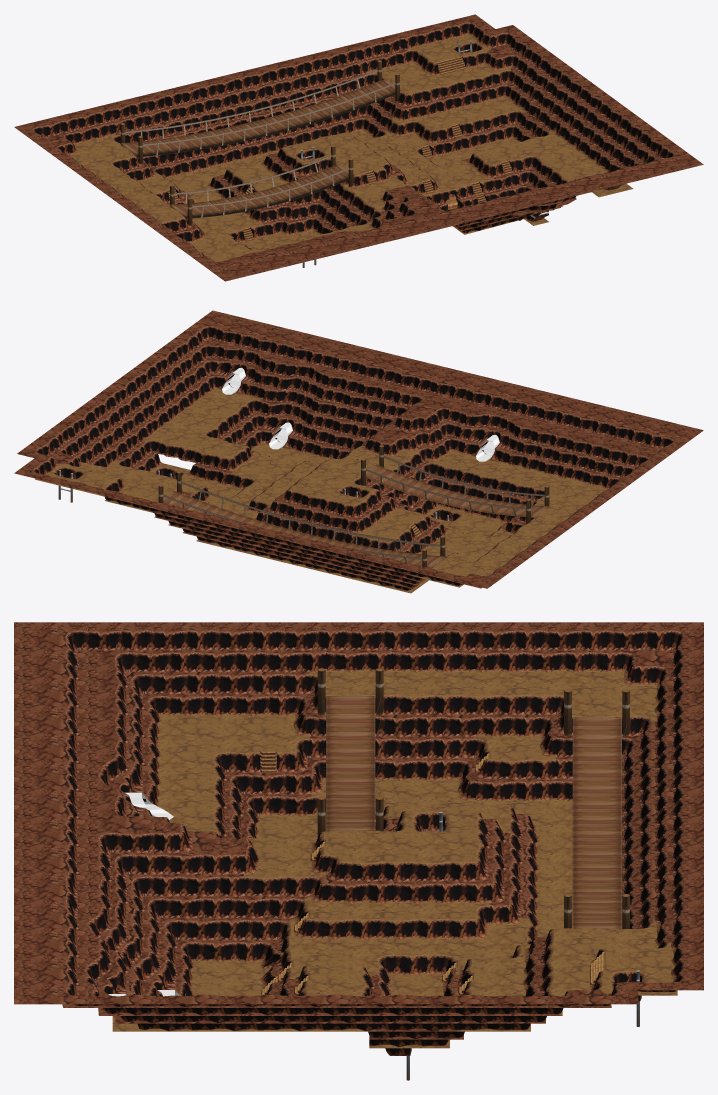
File: Inner Room (Low Tide).glb
3 views of the same model, one above another, from view 1: azimuth 30°, elevation 25°; view 2: azimuth 150°, elevation 25°; view 3: azimuth 270°, elevation 25° (orthographic). The views are drawn at different scales.
Parts seen in each view (by area): view 1: cave_basic_kaidan01_1_0_node, cave_basic_kaidan07_0_0_node, pasted__cave_basic_ana04_4_0_node, pasted__cave_basic_ana04_3_0_node, bridge32_0_0_node, polySurface10213_3_0_node, polySurface10210_2_0_node; view 2: cave_basic_kaidan01_1_0_node, cave_basic_kaidan07_0_0_node, pasted__cave_basic_ana04_4_0_node, pasted__cave_basic_ana04_3_0_node, polySurface10213_3_0_node, bridge32_0_0_node, polySurface10210_2_0_node, polySurface10253_4_0_node; view 3: cave_basic_kaidan01_1_0_node, pasted__cave_basic_ana04_4_0_node, pasted__cave_basic_ana04_3_0_node, polySurface10213_3_0_node, bridge32_0_0_node, cave_basic_kaidan07_0_0_node, polySurface10210_2_0_node.
Boxes of the visible parts, box(x1,y1,x2,y2) form: cave_basic_kaidan01_1_0_node: box(32, 46, 545, 266); cave_basic_kaidan07_0_0_node: box(361, 22, 675, 221); pasted__cave_basic_ana04_4_0_node: box(14, 42, 572, 281); pasted__cave_basic_ana04_3_0_node: box(70, 118, 548, 262); bridge32_0_0_node: box(120, 60, 400, 225); polySurface10213_3_0_node: box(360, 14, 703, 221); polySurface10210_2_0_node: box(368, 34, 633, 197); cave_basic_kaidan01_1_0_node: box(143, 355, 674, 590); cave_basic_kaidan07_0_0_node: box(33, 326, 330, 518); pasted__cave_basic_ana04_4_0_node: box(130, 343, 703, 588); pasted__cave_basic_ana04_3_0_node: box(196, 443, 607, 593); polySurface10213_3_0_node: box(14, 310, 346, 514); bridge32_0_0_node: box(158, 445, 549, 567); polySurface10210_2_0_node: box(35, 388, 261, 512); polySurface10253_4_0_node: box(222, 368, 292, 449); cave_basic_kaidan01_1_0_node: box(65, 630, 685, 995); pasted__cave_basic_ana04_4_0_node: box(14, 622, 703, 989); pasted__cave_basic_ana04_3_0_node: box(157, 670, 658, 996); polySurface10213_3_0_node: box(14, 900, 703, 1039); bridge32_0_0_node: box(317, 668, 629, 928); cave_basic_kaidan07_0_0_node: box(65, 900, 685, 1055); polySurface10210_2_0_node: box(112, 923, 677, 1048).
Size of the model in its own units: 990 by 175 by 756.
12 materials, 11 textured.
